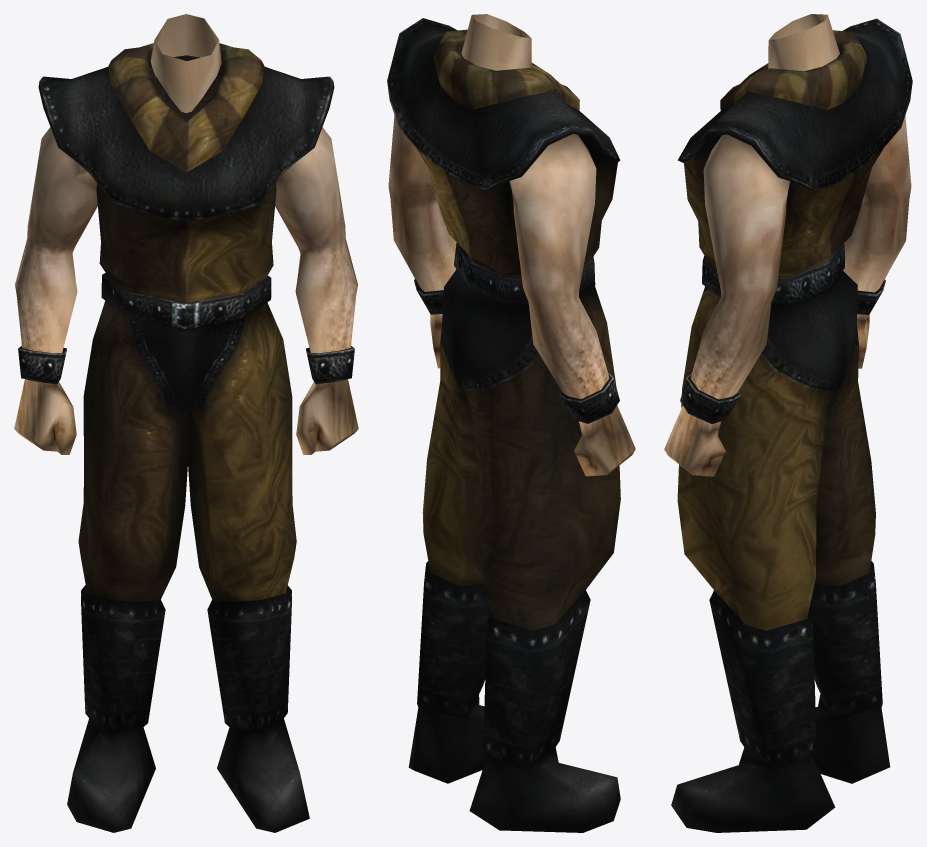
The model's file is KM_STHR_L.glb.
3 renders of one model, left to right at view 1: azimuth 30°, elevation 25°; view 2: azimuth 150°, elevation 25°; view 3: azimuth 270°, elevation 25°, orthographic.
Visible parts, largest first — view 1: KM_STHR_L; view 2: KM_STHR_L; view 3: KM_STHR_L.
Boxes of the visible parts, bbox=[...] form: KM_STHR_L: bbox=[14, 14, 358, 832]; KM_STHR_L: bbox=[387, 14, 635, 832]; KM_STHR_L: bbox=[664, 14, 912, 832].
Size of the model in its own units: 0.6447 by 1.69 by 0.4893.
Materials: 2 (2 with a texture image).
